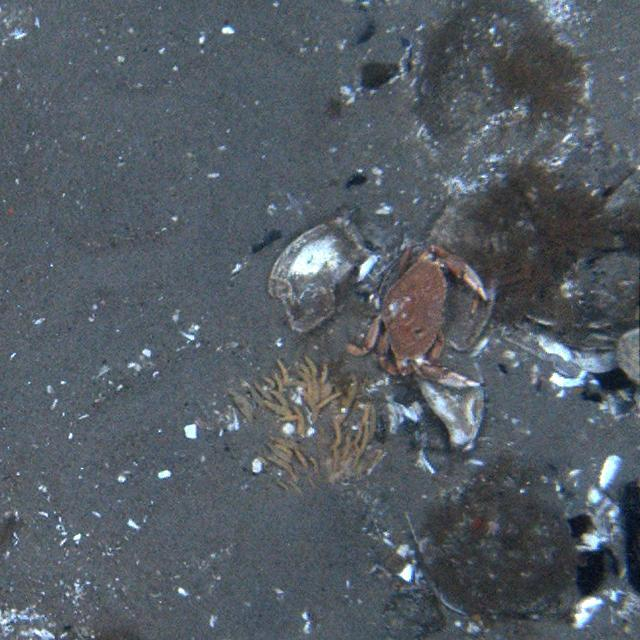crab: (354, 239, 488, 395)
